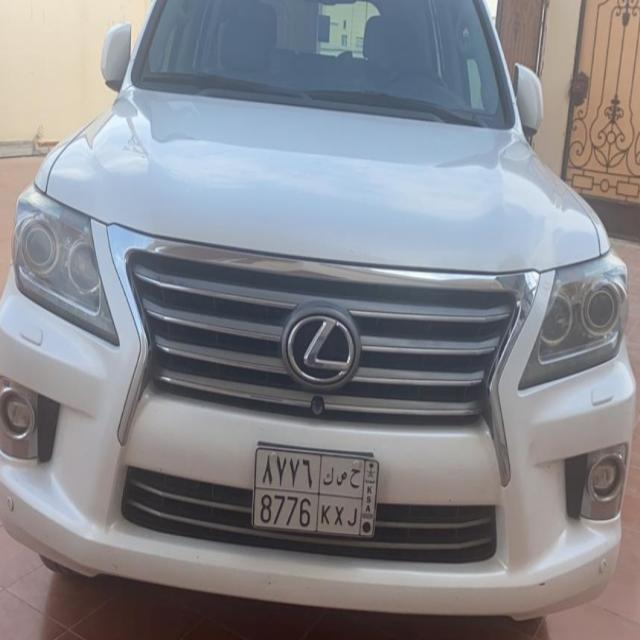license_plate: (252, 444, 380, 542)
